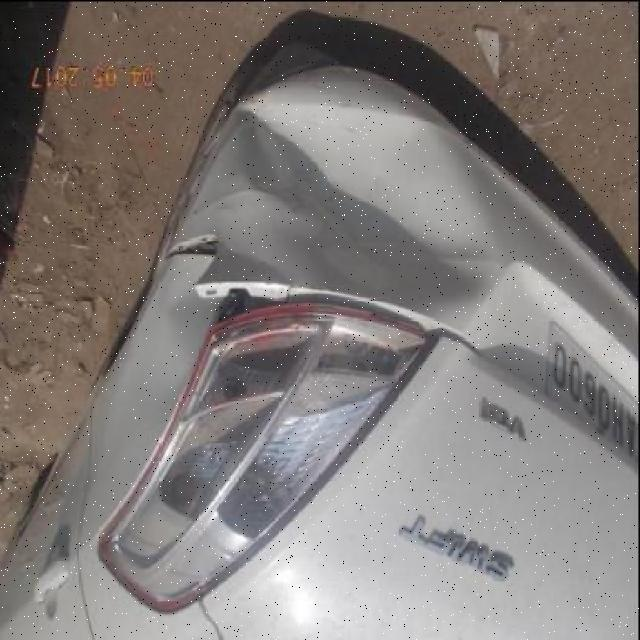damage: (241, 89, 513, 331), (198, 279, 311, 325)
